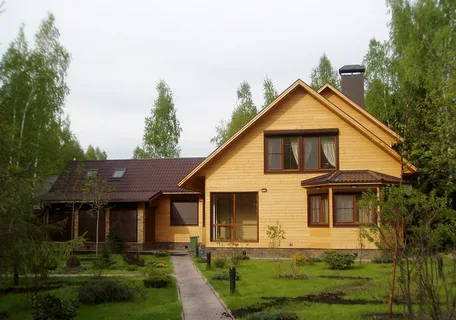private_hause: (187, 94, 407, 257), (49, 151, 222, 253)
